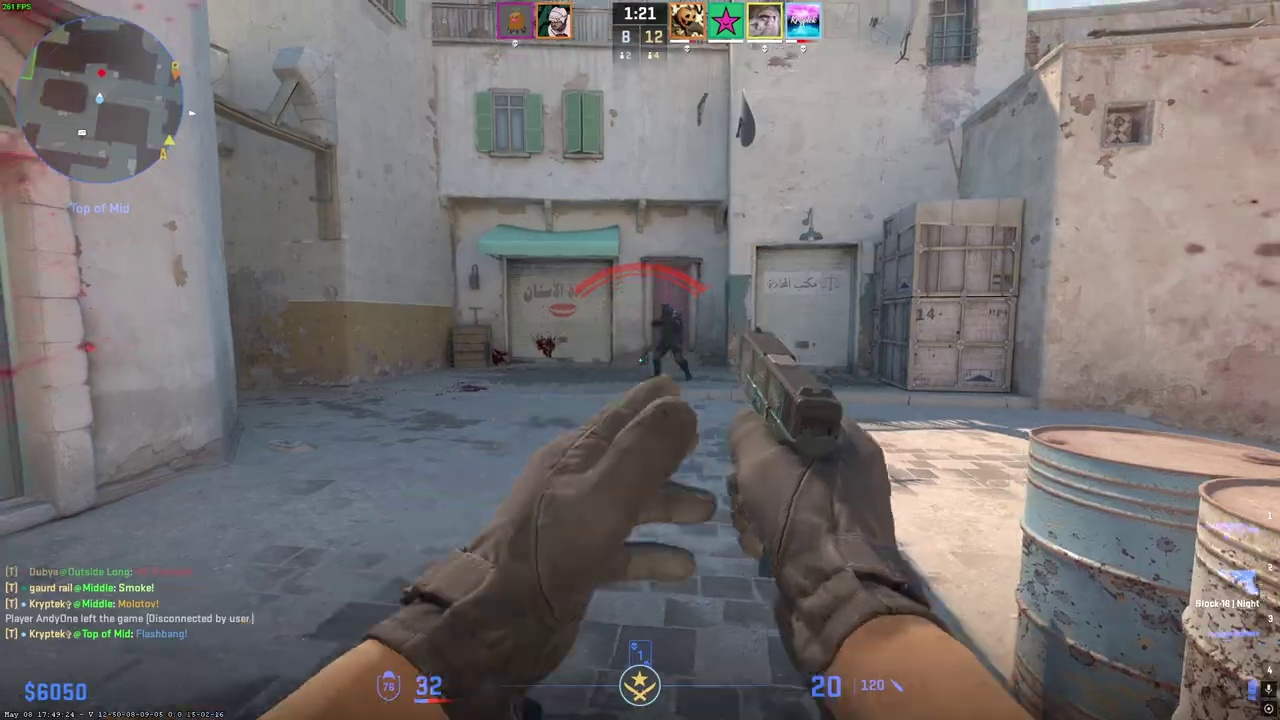CT: (649, 303, 691, 381)
